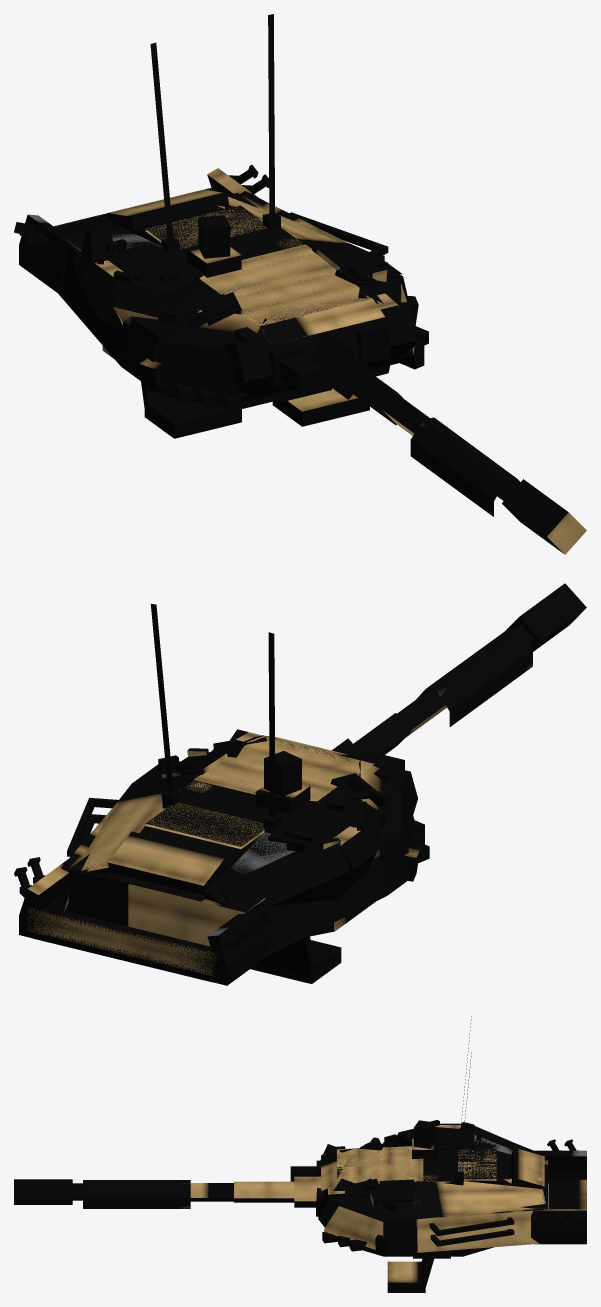
File: amx10_turret.obj
3 views of the same model, one above another, from view 1: azimuth 30°, elevation 25°; view 2: azimuth 150°, elevation 25°; view 3: azimuth 270°, elevation 25° (orthographic). The views are drawn at different scales.
Visible parts, largest first — view 1: turret, gun; view 2: turret, gun; view 3: turret, gun.
Boxes of the visible parts, bbox=[...] form: turret: bbox=[14, 14, 428, 438]; gun: bbox=[223, 293, 586, 554]; turret: bbox=[14, 603, 429, 985]; gun: bbox=[229, 583, 586, 814]; turret: bbox=[321, 1016, 586, 1292]; gun: bbox=[14, 1144, 345, 1227].
Bounding box in the file's own units: 3.49 × 4.13 × 9.32.
